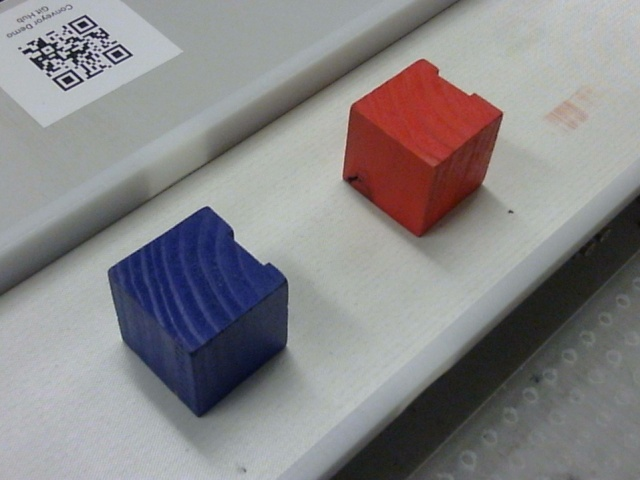BlueBlock: (107, 205, 290, 416)
RedBlock: (342, 58, 504, 237)
